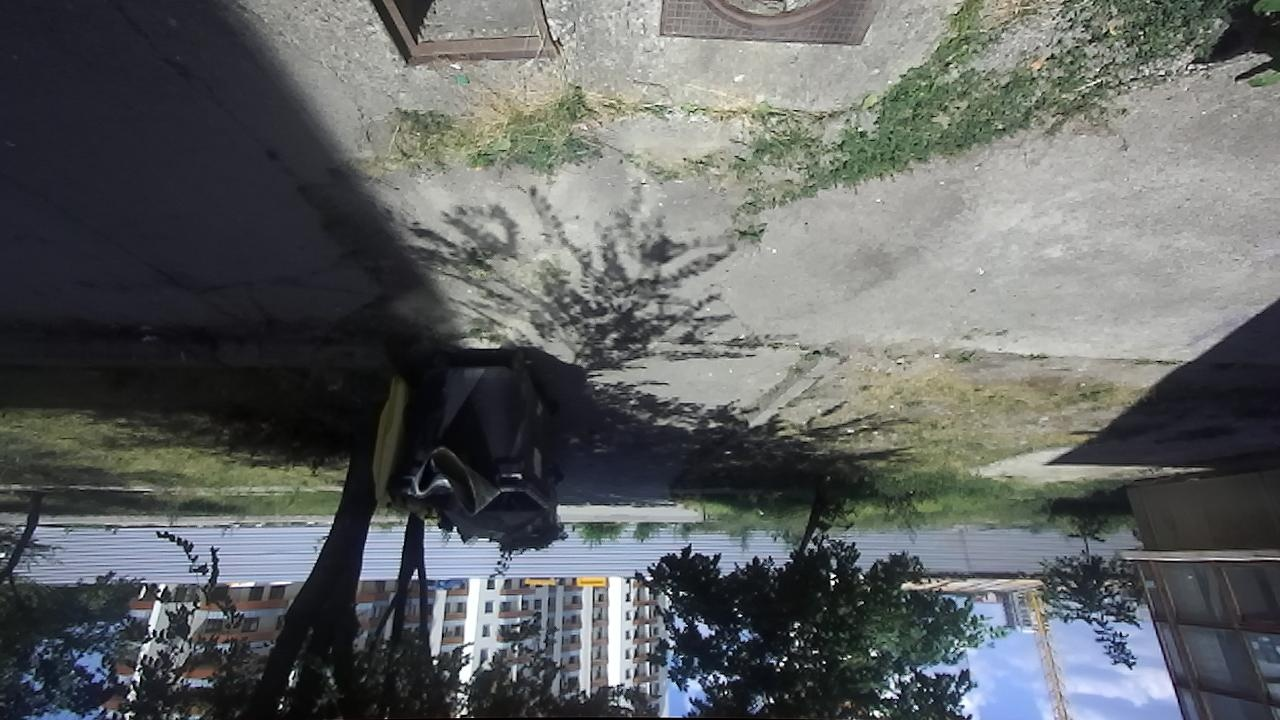drain: (360, 0, 564, 69), (698, 0, 858, 33)
